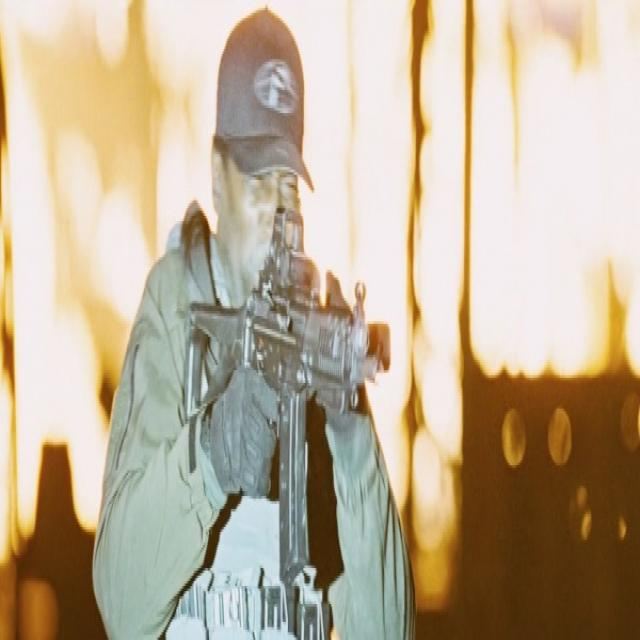rifle: (177, 207, 385, 589)
